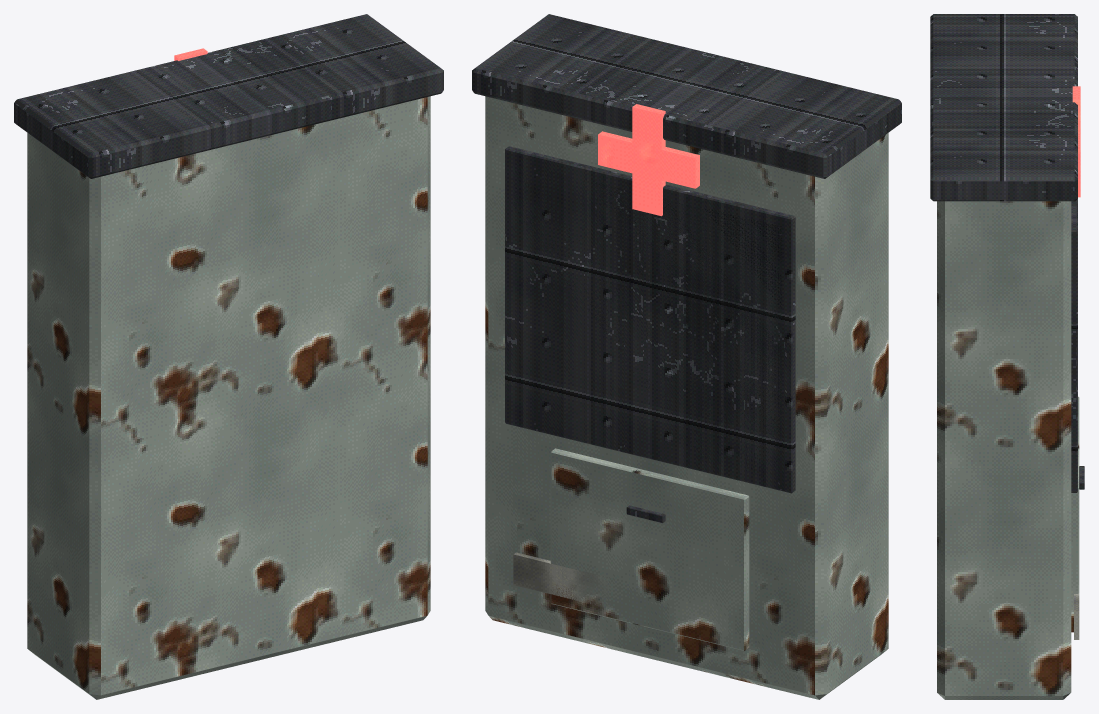
Rendered from prop_med_station.glb.
3 renders of one model, left to right at view 1: azimuth 30°, elevation 25°; view 2: azimuth 150°, elevation 25°; view 3: azimuth 270°, elevation 25°, orthographic. The views are drawn at different scales.
Parts seen in each view (by area): view 1: prop_med_station_mesh; view 2: prop_med_station_mesh; view 3: prop_med_station_mesh.
Part boxes in pixels (left/top/right/bottom): prop_med_station_mesh: left=14, top=14, right=443, bottom=699; prop_med_station_mesh: left=472, top=14, right=901, bottom=699; prop_med_station_mesh: left=930, top=14, right=1084, bottom=699.
Bounding box in the file's own units: 1.46 × 2.18 × 0.575.
6 materials, 6 textured.
